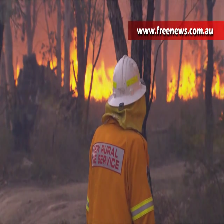fire_h: (70, 28, 116, 101), (169, 61, 199, 102), (211, 63, 224, 99)
fire_l: (13, 65, 20, 86), (60, 62, 65, 88), (150, 81, 156, 102), (49, 57, 57, 69), (36, 61, 48, 67)
